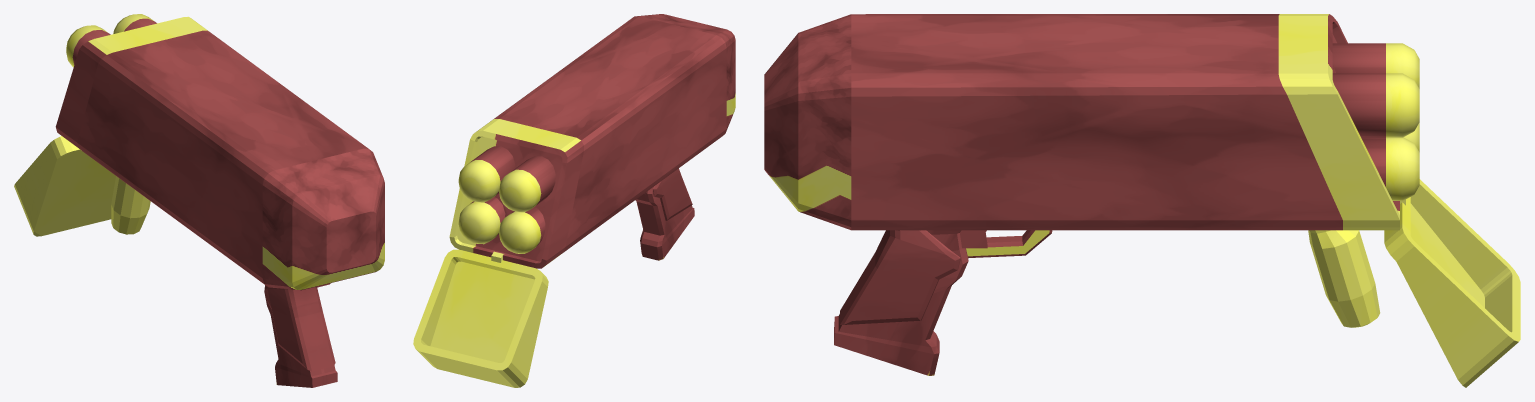
Rendered from rpg_01.gltf.
The picture shows the model from 3 angles, left to right: view 1: azimuth 30°, elevation 25°; view 2: azimuth 150°, elevation 25°; view 3: azimuth 270°, elevation 25°; orthographic projection. The views are drawn at different scales.
Visible parts, largest first — view 1: Cube; view 2: Cube; view 3: Cube.
Boxes of the visible parts, left/top/right/bottom form: Cube: left=14, top=14, right=384, bottom=387; Cube: left=413, top=14, right=735, bottom=387; Cube: left=764, top=14, right=1520, bottom=387.
Bounding box in the file's own units: 0.6322 × 1.32 × 2.79.
1 material, 1 textured.
